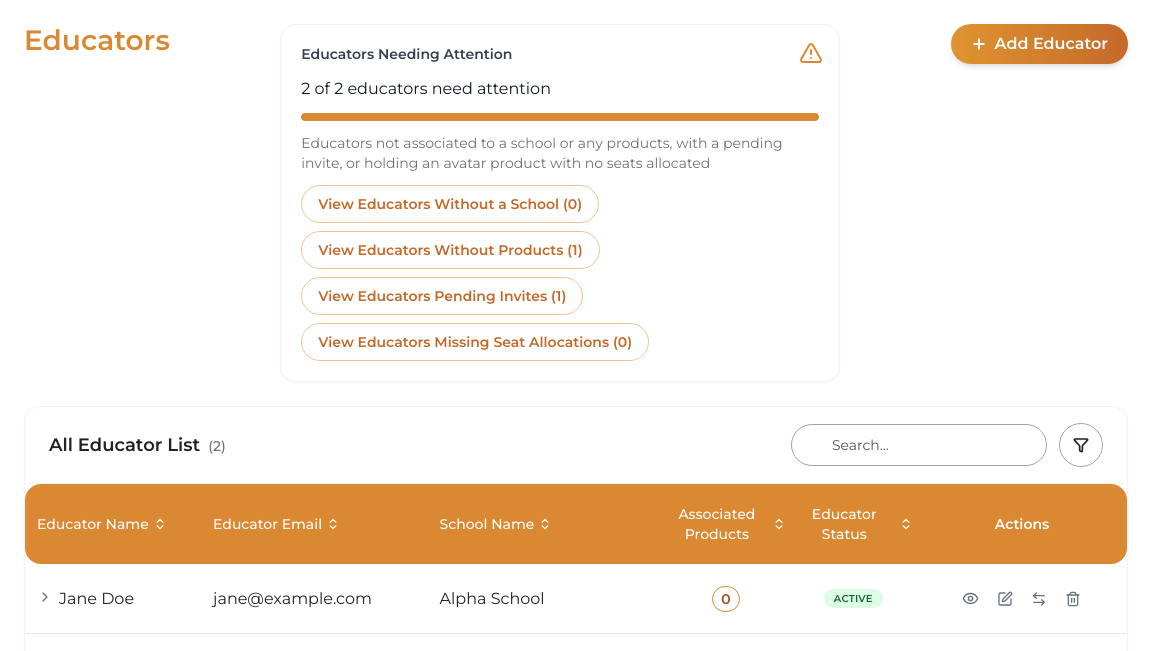
Scenario: Notification Applied Filter › should support multiple active filters with chips
Expected: the text "Jane Doe" is shown, [59,586,134,610]
// Open filter panel
Click the button named "filter": (1081, 445) [1059,423,1103,467]
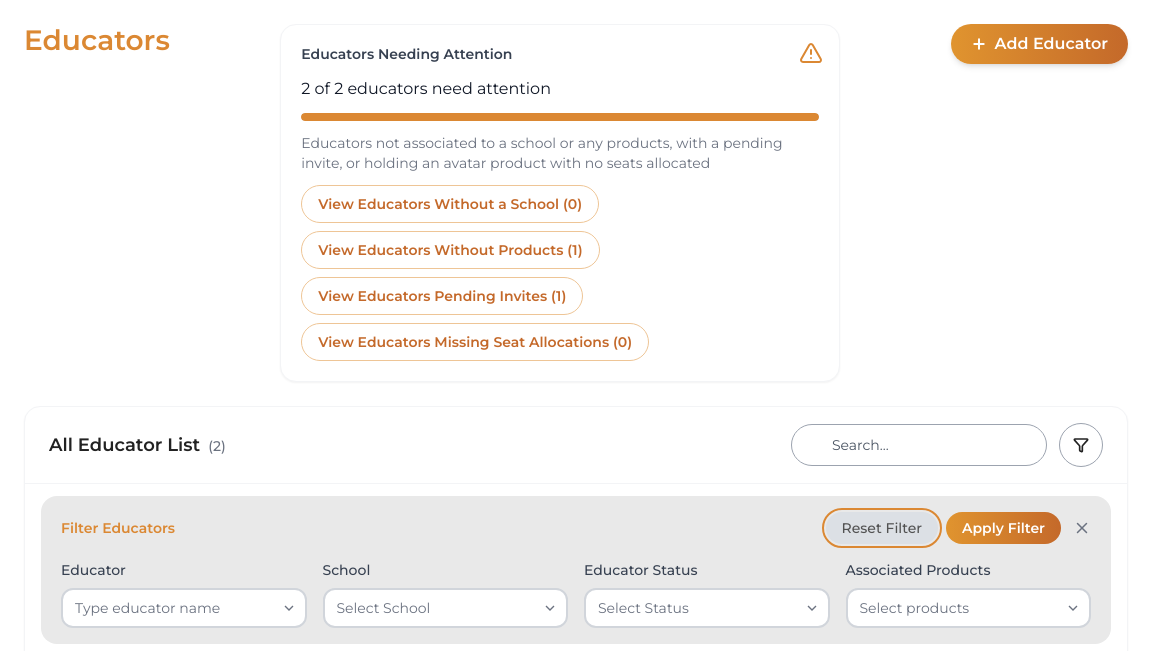
Expected: the text "Filter Educators" is shown, [61,518,175,538]
Click the button "Select School": (445, 608) [322,588,568,628]
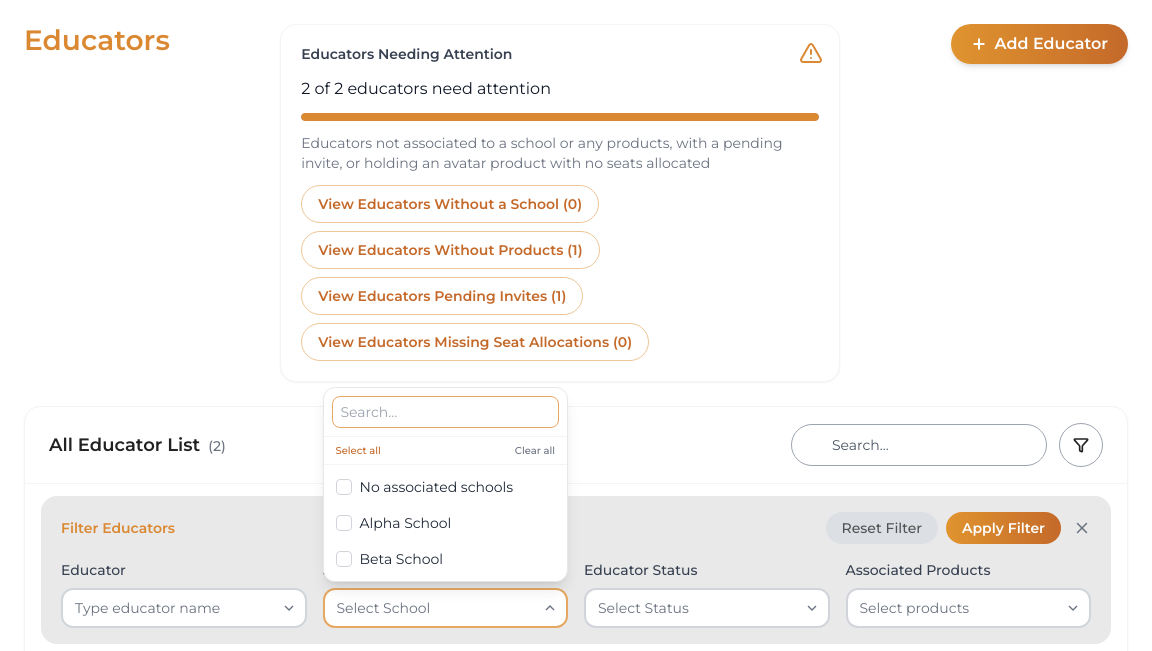
Click the option "Alpha School": (393, 523) [336,514,451,532]
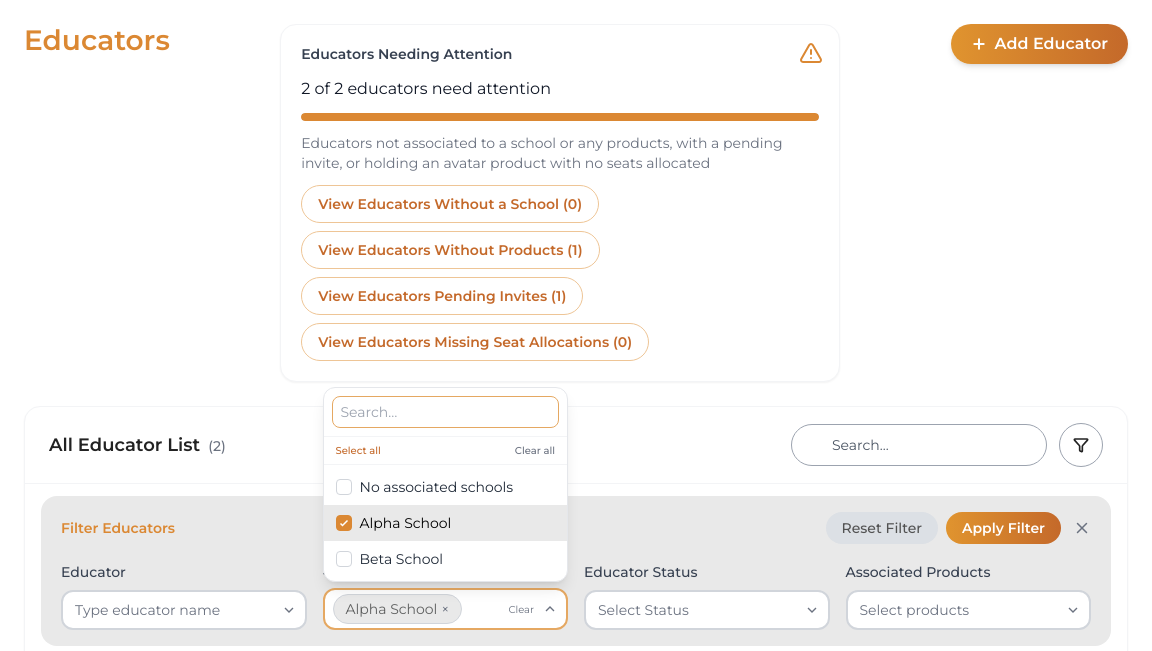
Click the button "Select Status": (707, 610) [584,590,830,630]
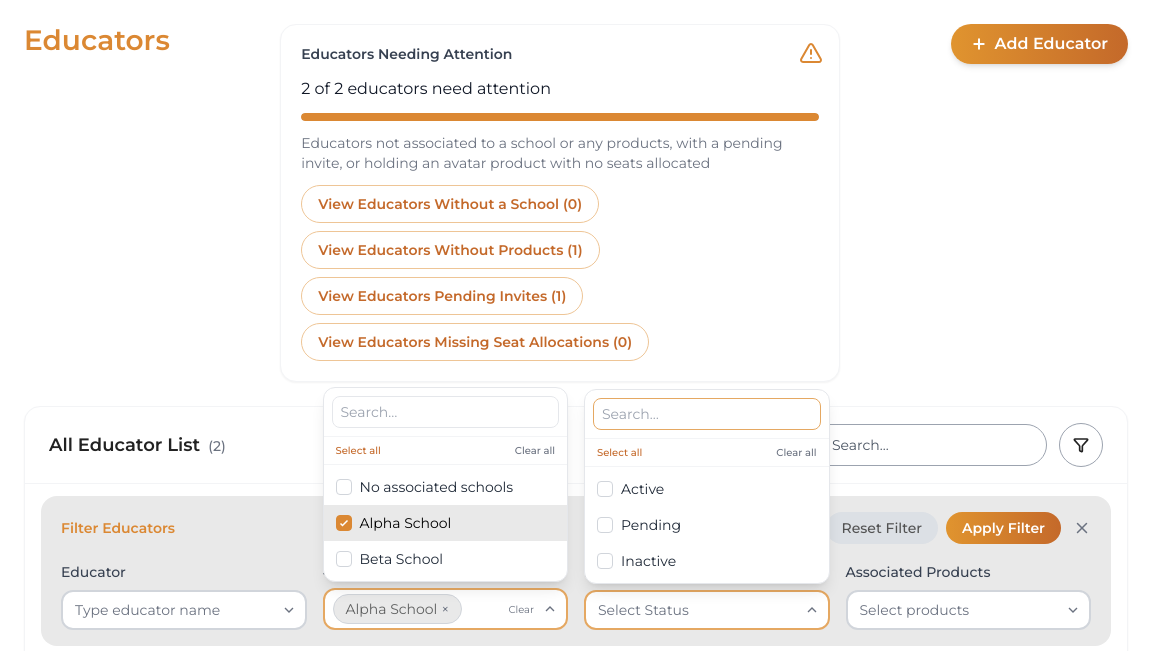
Click the option "Active": (631, 489) [597,480,664,498]
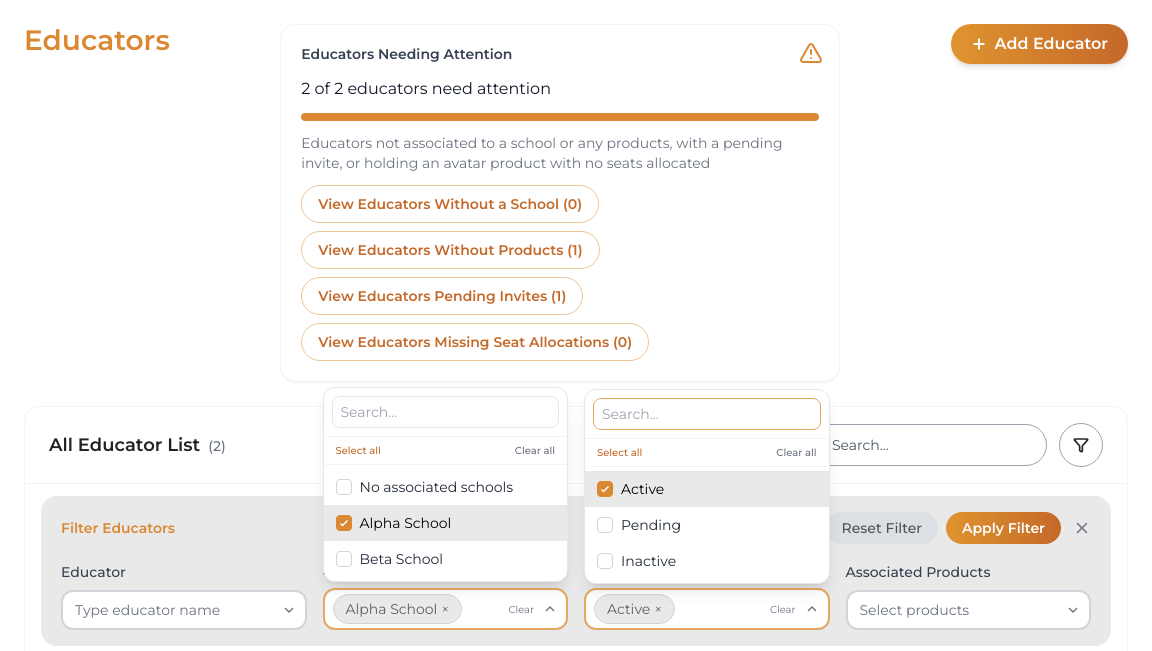
// Click Apply Filter
Click the button "Apply Filter": (1004, 528) [946,512,1061,544]
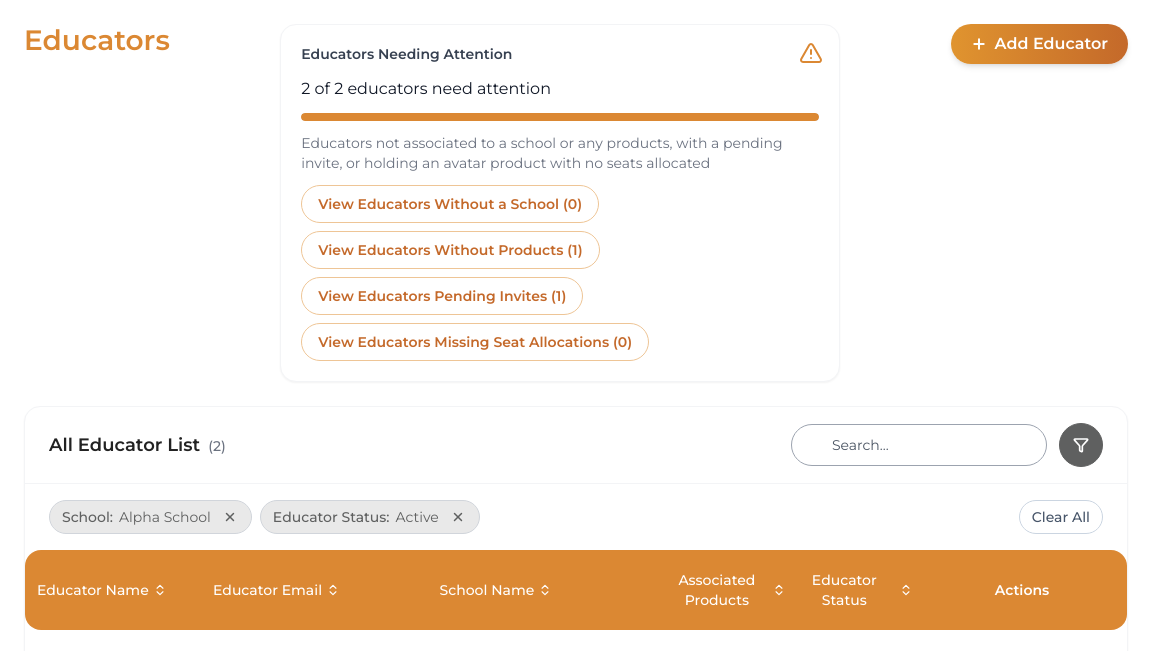
Expected: the text "Filter Educators" is gone
Expected: the text "School:" is shown, [62,507,113,527]
Expected: the text "Educator Status:" is shown, [273,507,390,527]
